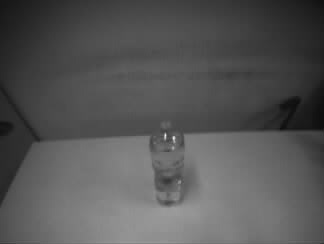Bottle: (148, 119, 187, 208)
